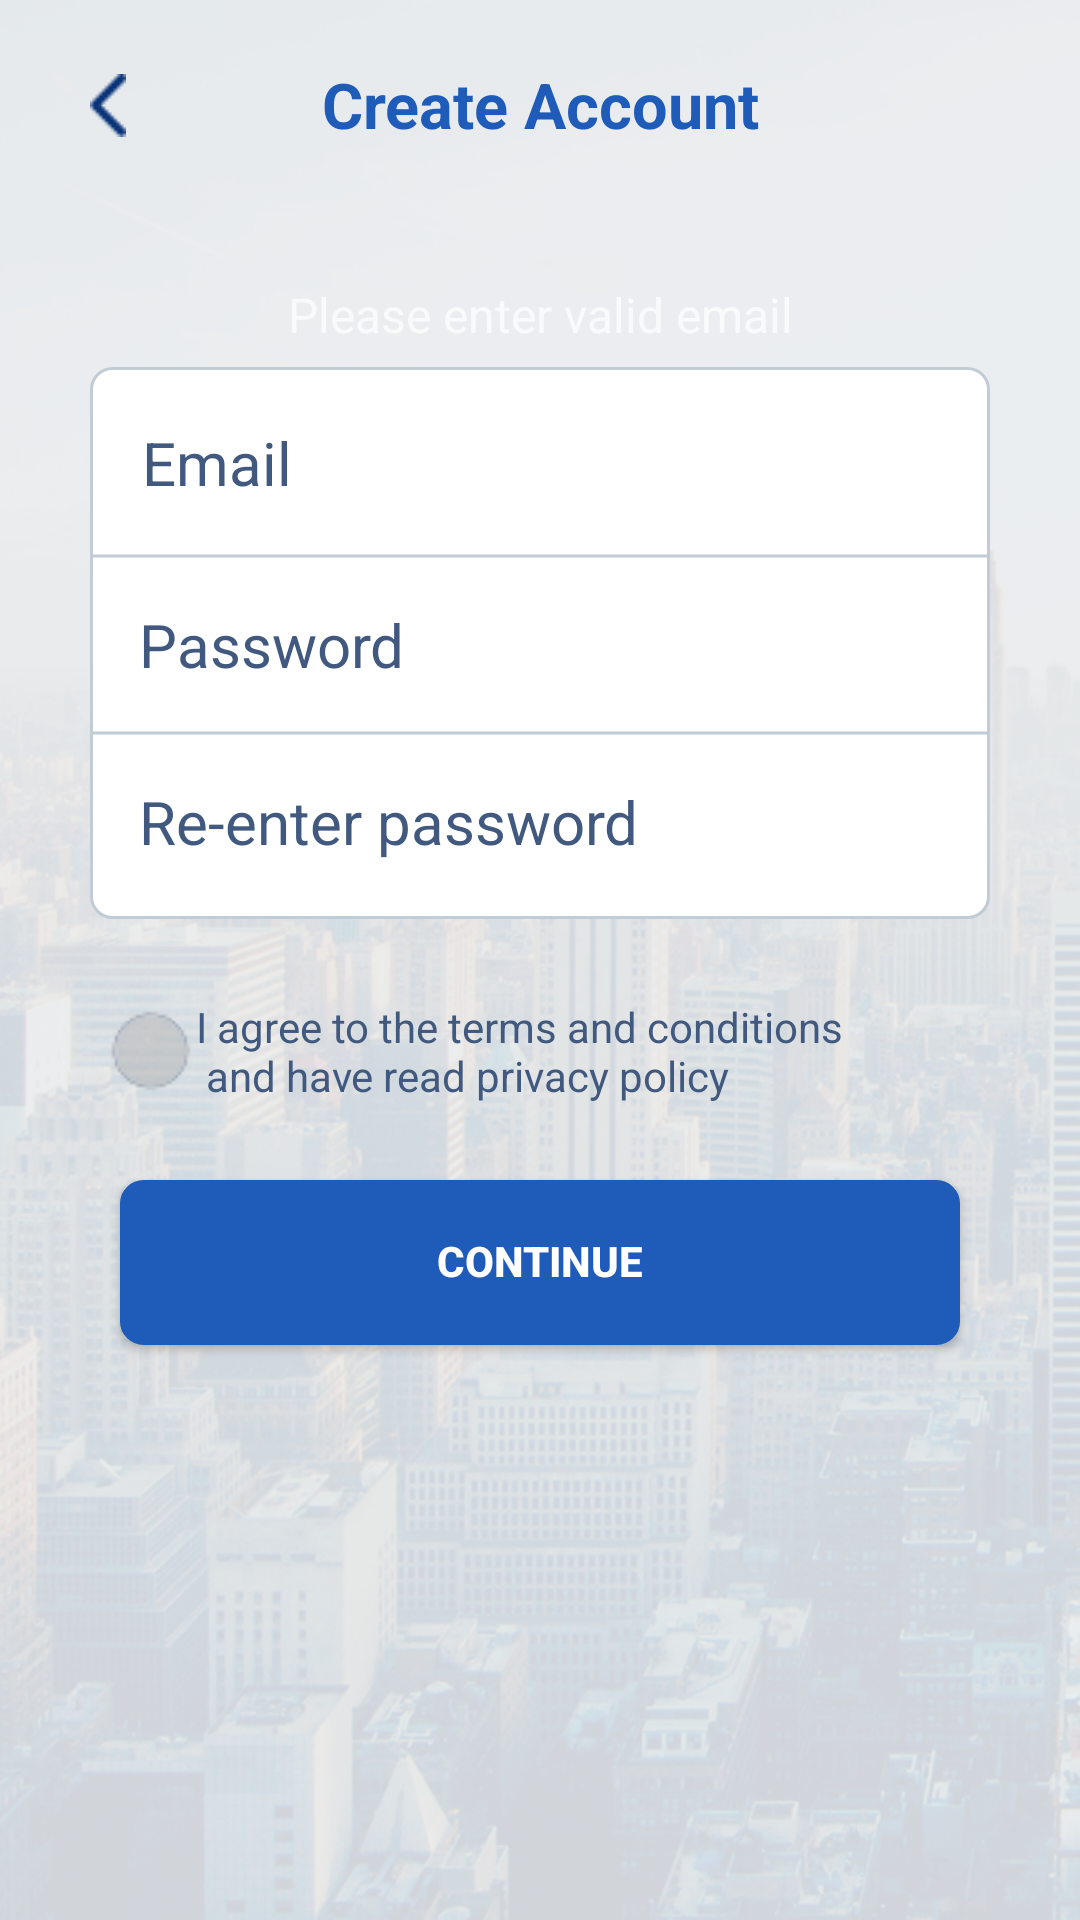

Where to tap for icons on this 1080px×1920px app screen, as (x=x, y=y):
back: (x=108, y=105)
